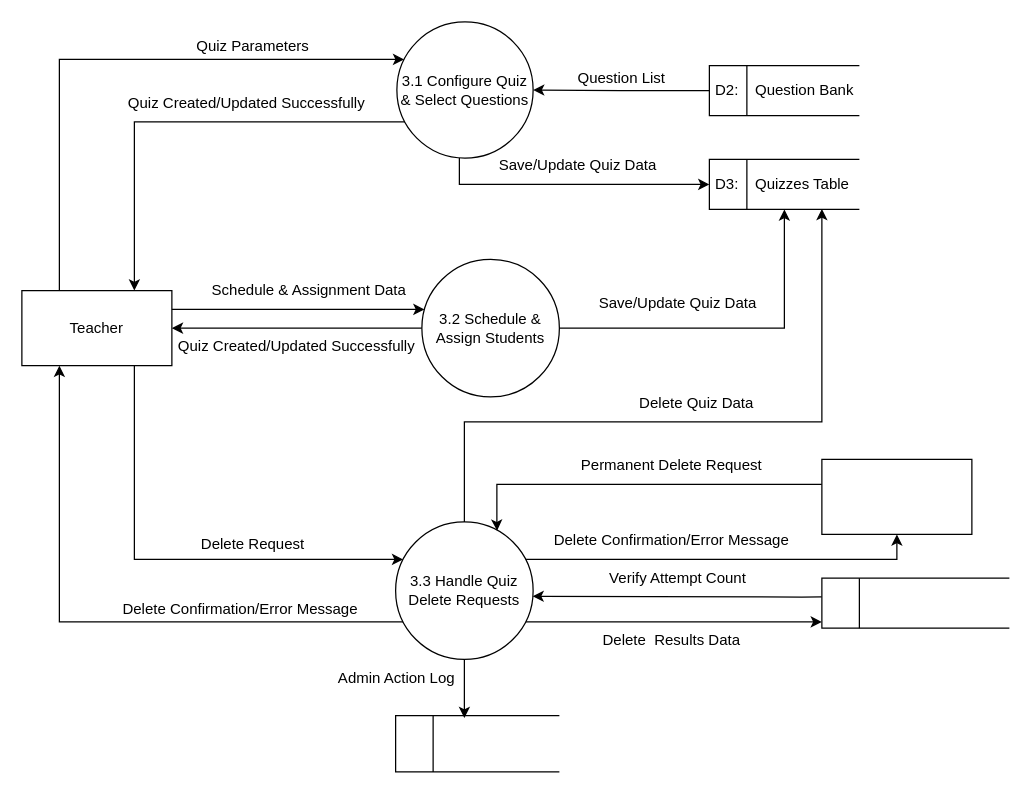
Image size: 1031x794. Some labels were removed from this diagram. Each missing label, with the centre of its shape:
Admin: the point at 896,496
D4: Attempts & Results: the point at 915,602
D5: System Log: the point at 476,743
